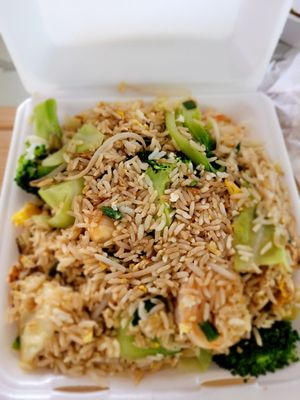curry: (212, 320, 300, 378), (164, 99, 218, 171), (37, 177, 85, 229)
sushi: (3, 80, 300, 396)
